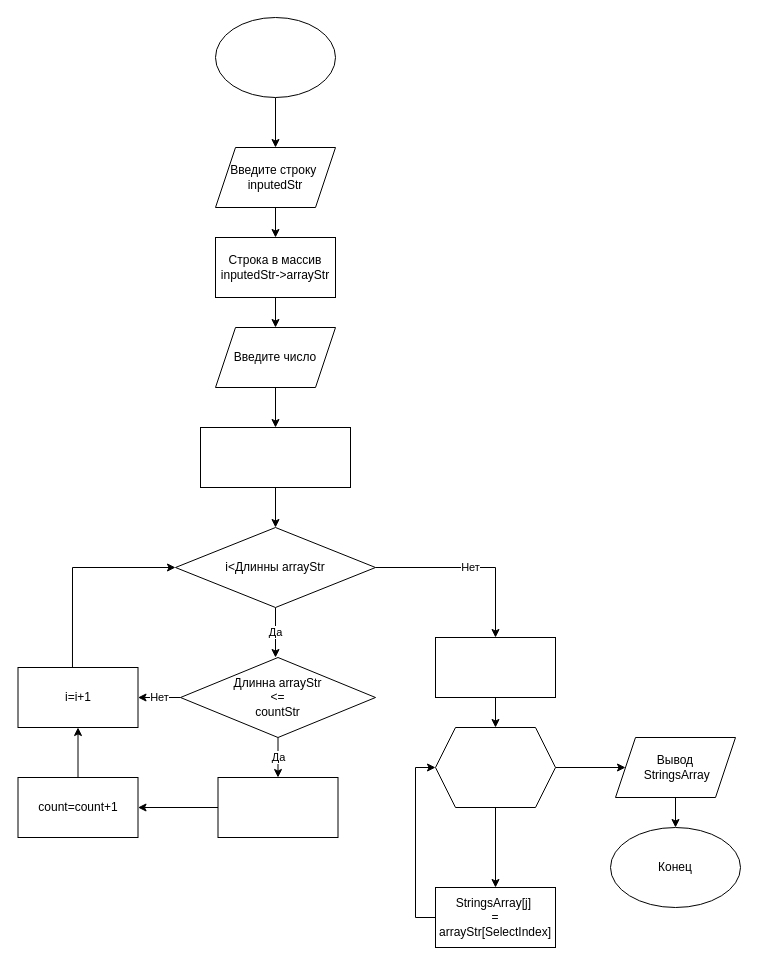
The diagram is 758 pixels wide and 965 high, and some of its shapes have lost their labels. Each missing label, with the centre of its shape:
countStr,arrayStr[], i=0,count=0,selectIndex: the point at 275,457
SelectIndex[count] = arrayStr[i]: the point at 277,807
StringsArray[]count: the point at 495,667
Начало: the point at 275,57
от j = 0 до j = count j = j + 1: the point at 495,767
